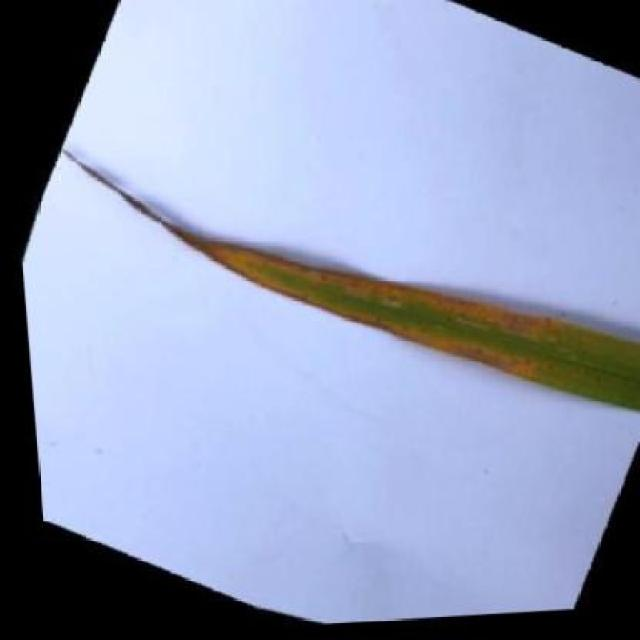Rice False Smut: (35, 83, 640, 474)
